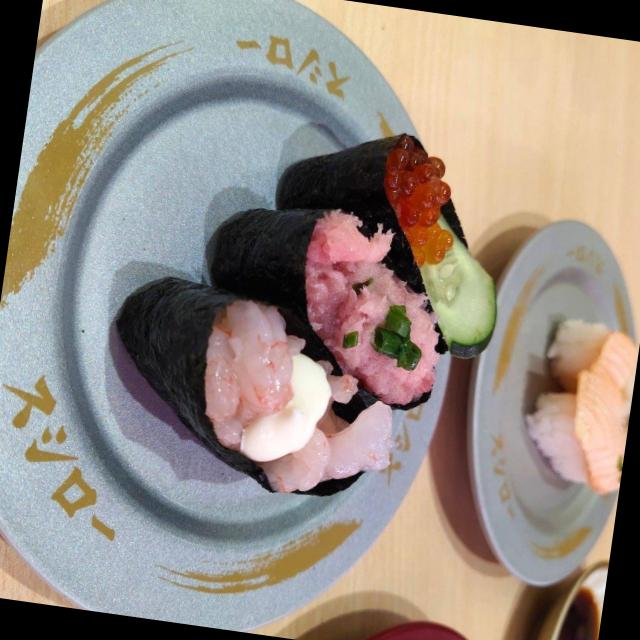janred: (345, 623, 494, 640)
janwhite: (21, 23, 474, 632), (440, 228, 640, 598)
